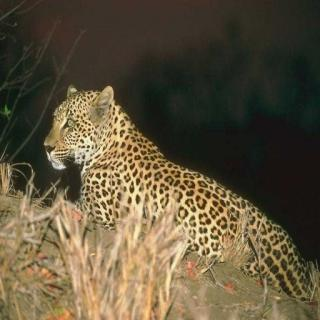Leopard: (29, 66, 320, 309)
